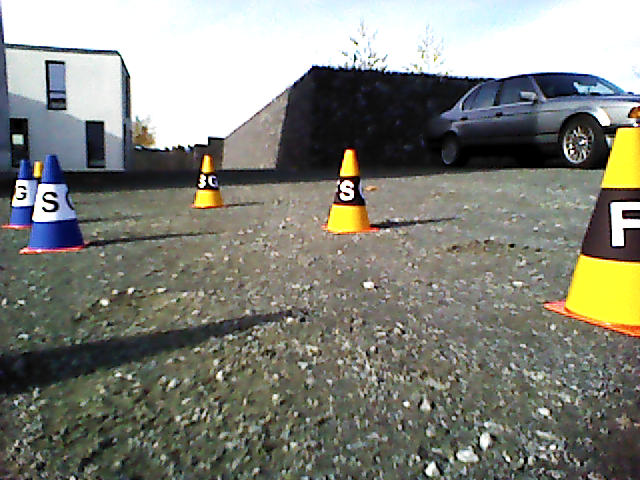bluecone: (28, 155, 81, 247), (8, 160, 36, 225)
yellowcone: (571, 129, 640, 316), (330, 150, 369, 230), (195, 154, 223, 206)
